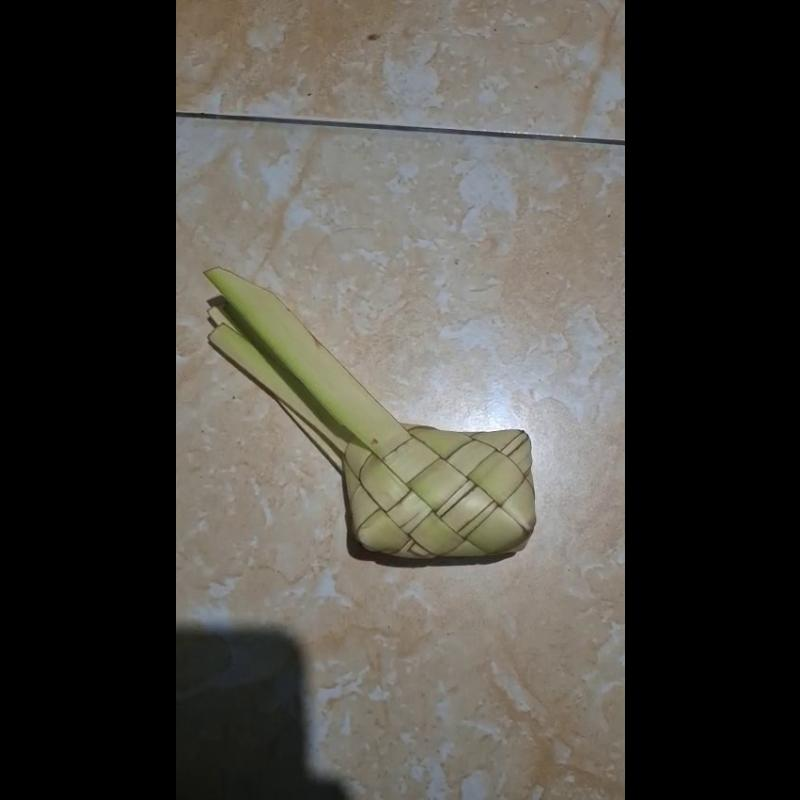Tipat Bantal: (204, 258, 534, 557)
